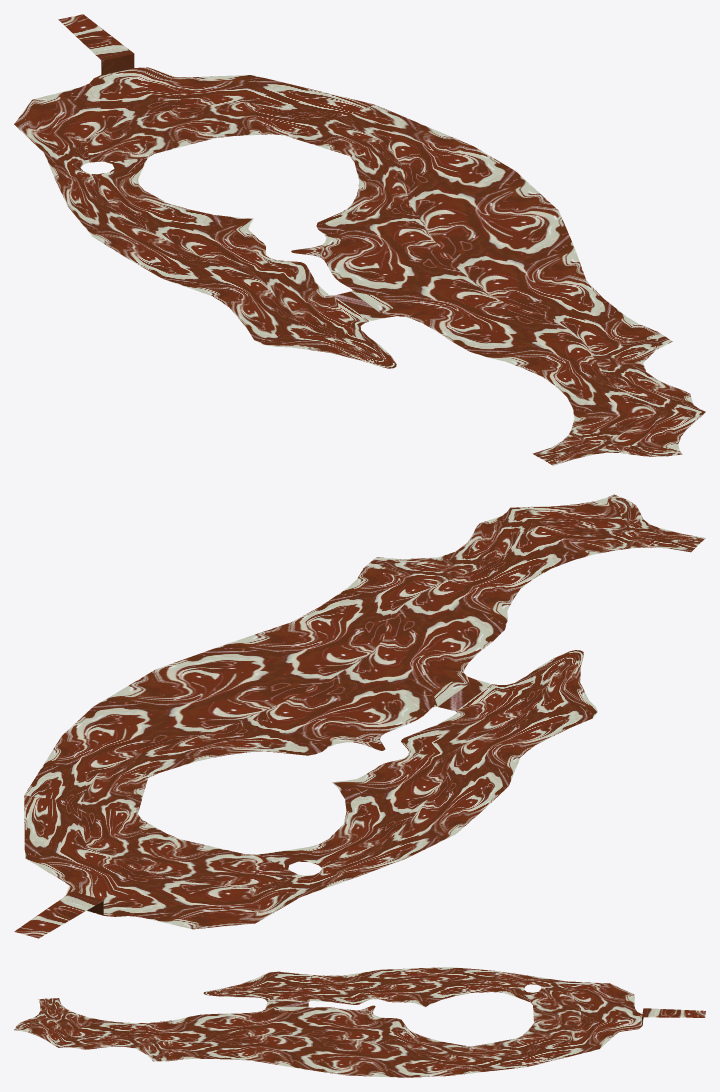
The model's file is biawaterpollution.dae.
3 renders of one model, top to bottom at view 1: azimuth 30°, elevation 25°; view 2: azimuth 150°, elevation 25°; view 3: azimuth 270°, elevation 25°, orthographic. The views are drawn at different scales.
Parts seen in each view (by area): view 1: m0; view 2: m0; view 3: m0.
Part boxes in pixels (x1,y1,x2,y2): m0: [14, 14, 705, 465]; m0: [14, 494, 705, 938]; m0: [14, 967, 705, 1077].
Bounding box in the file's own units: 13850 × 500 × 36606.
